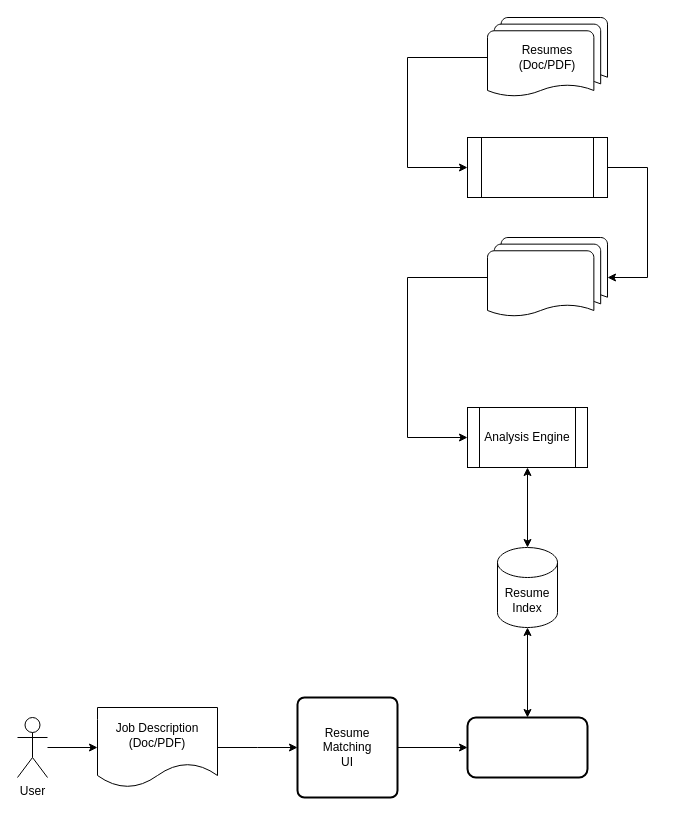
Some shapes in this 673 by 816 pixel diagram are drawn without their labels. Here are the shapes that lost their labels. From the top down, the centre of each, then its label:
(x=537, y=167): Parsing Engine
(x=547, y=277): Normalized Resumes (JSON)
(x=527, y=747): Scoring Engine
